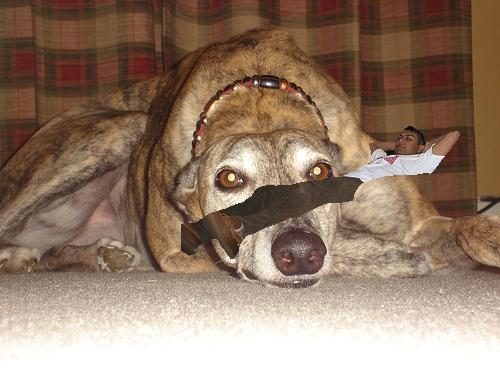tampered: (182, 127, 460, 259)
